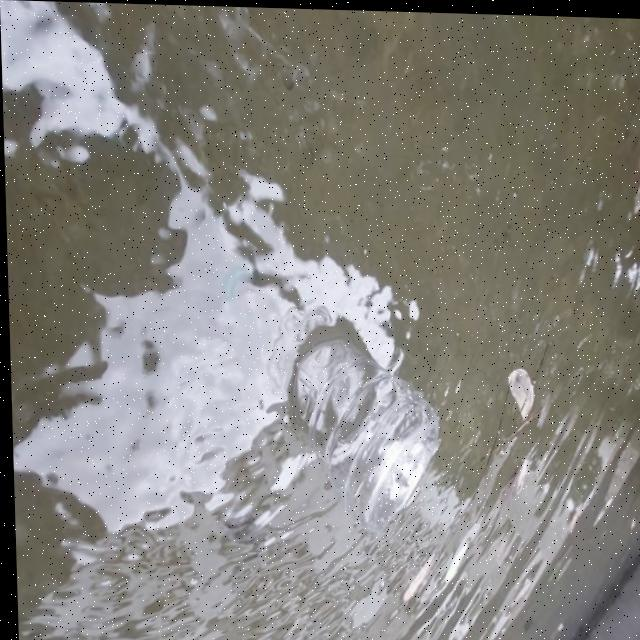leaf: (207, 249, 452, 514), (487, 346, 540, 431)
